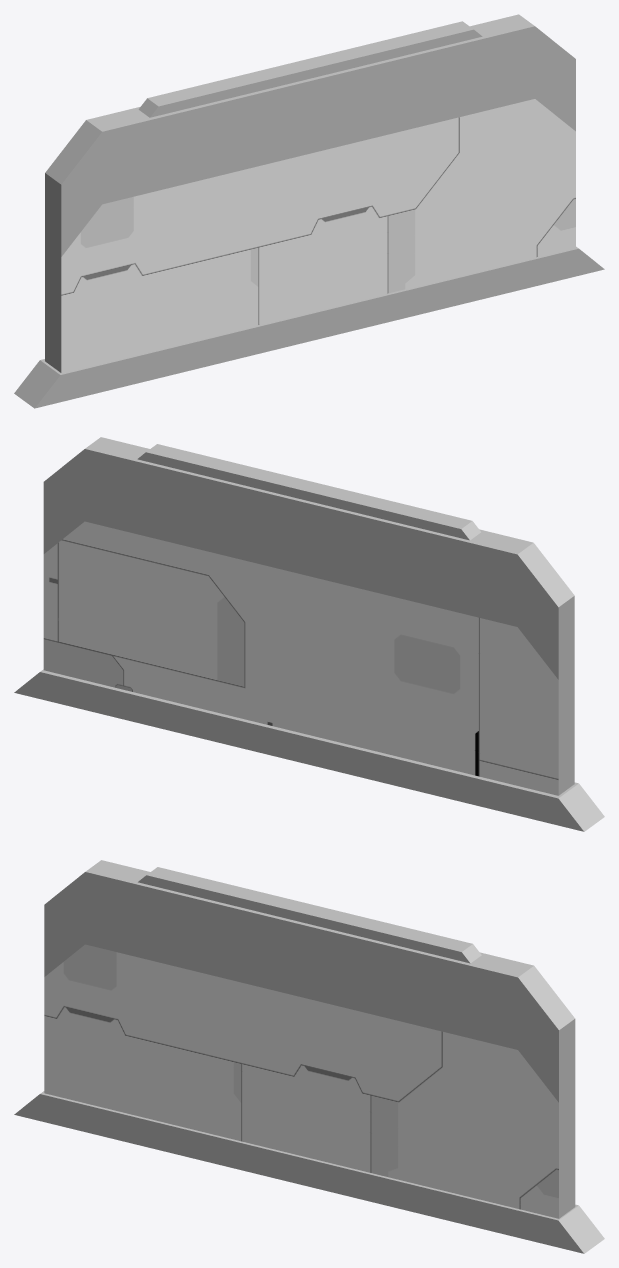
The model's file is SM_Railing_1.fbx.
The picture shows the model from 3 angles, top to bottom: view 1: azimuth 30°, elevation 25°; view 2: azimuth 150°, elevation 25°; view 3: azimuth 330°, elevation 25°; orthographic projection.
Parts seen in each view (by area): view 1: SM_Railing_1; view 2: SM_Railing_1; view 3: SM_Railing_1.
Boxes of the visible parts, x1,y1,x2,y2 form: SM_Railing_1: (14,14,604,408); SM_Railing_1: (14,437,604,831); SM_Railing_1: (14,860,604,1253).
Bounding box in the file's own units: 221 × 99.33 × 13.85.
